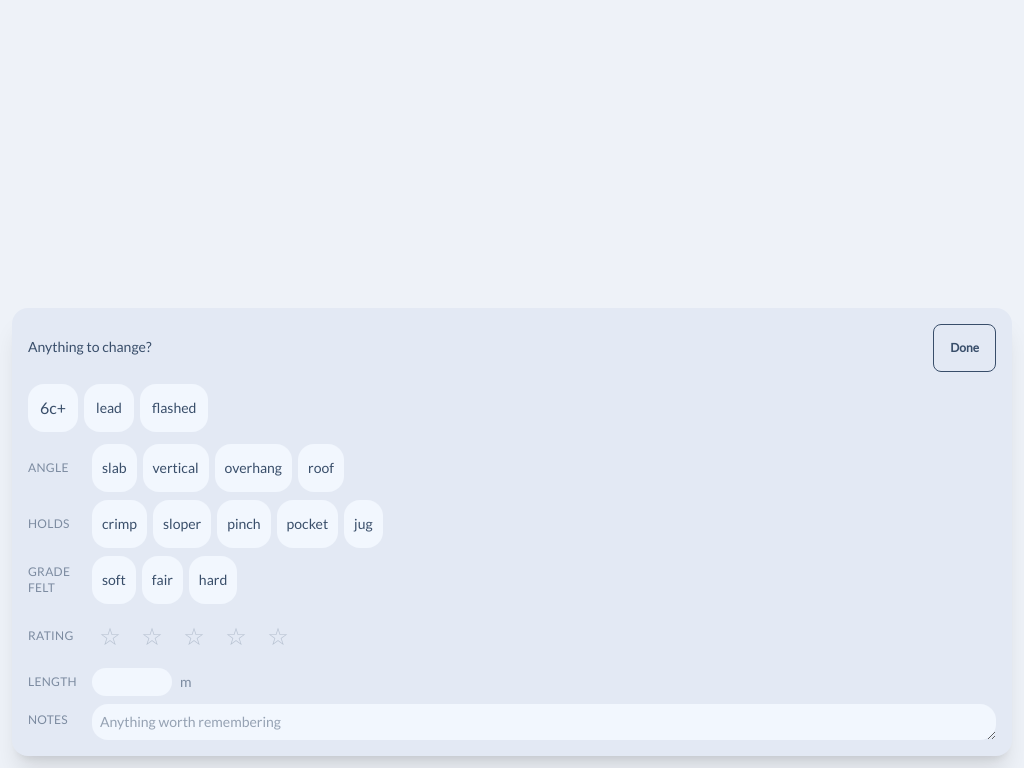
Test: correcting what was recorded › reports a corrected grade and returns to the detail panel
Click the button named "Grade, 6c+" at {"x": 53, "y": 408}, box [28, 384, 78, 432]
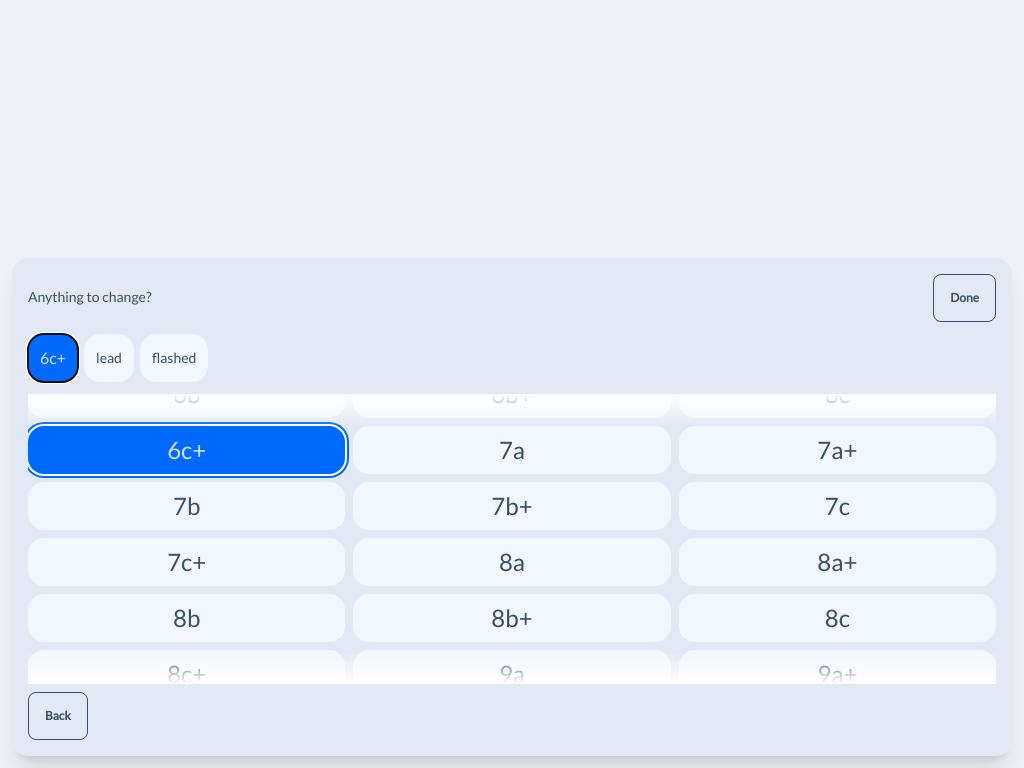
Click the button named "Grade 7a" at {"x": 512, "y": 450}, box [353, 426, 671, 474]
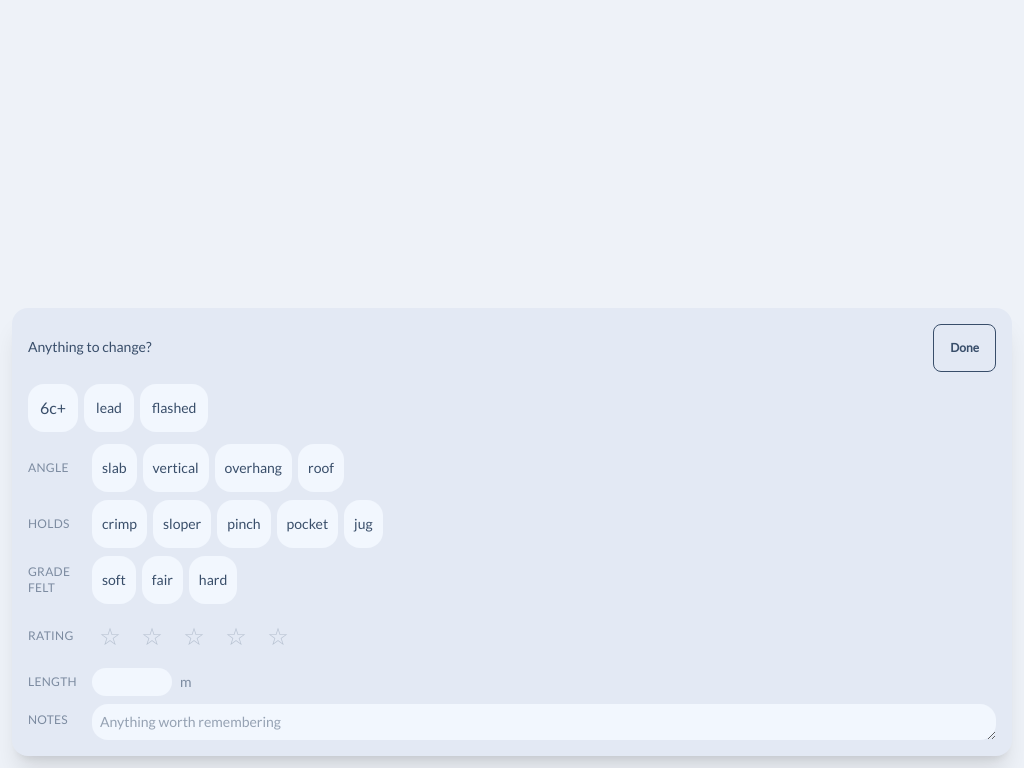
Now the button "overhang" is shown, box [215, 444, 292, 492]
